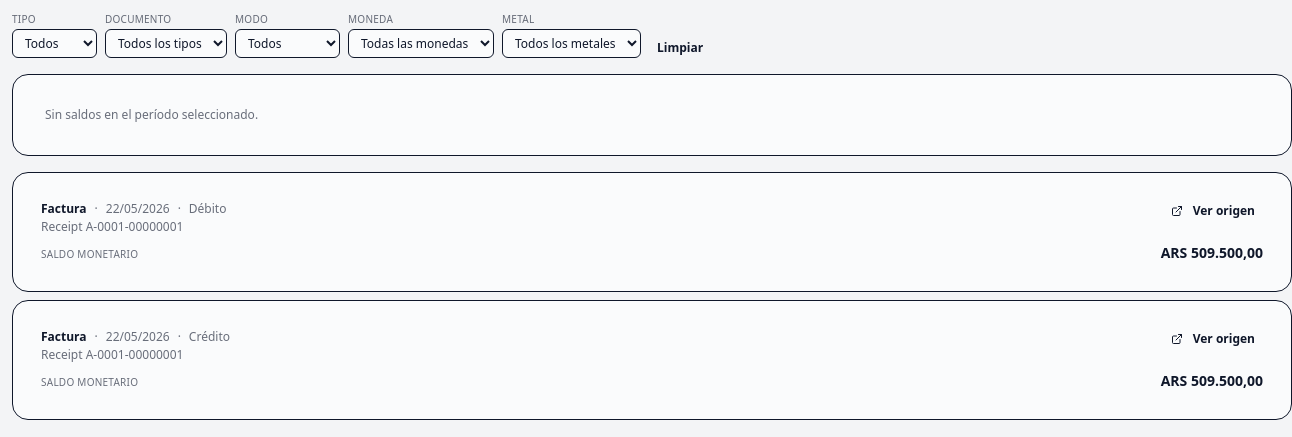
Test case: EntityBalanceMovementsView — filtros (Fase 4.4) › botón 'Limpiar' resetea todos los filtros
Select "Créditos" in the dropdown with test id "filter-kind": coordinates (54, 44) top-left (12, 29), bottom-right (97, 58)
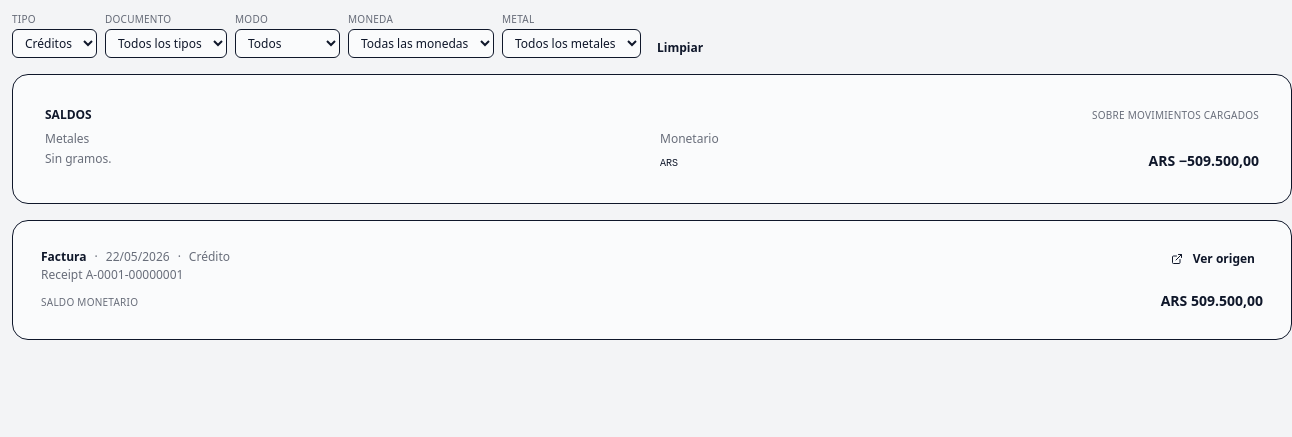
Now the element with test id "movement-card-u-d" is gone
Click the button with test id "filter-clear": coordinates (680, 48) top-left (649, 38), bottom-right (711, 58)
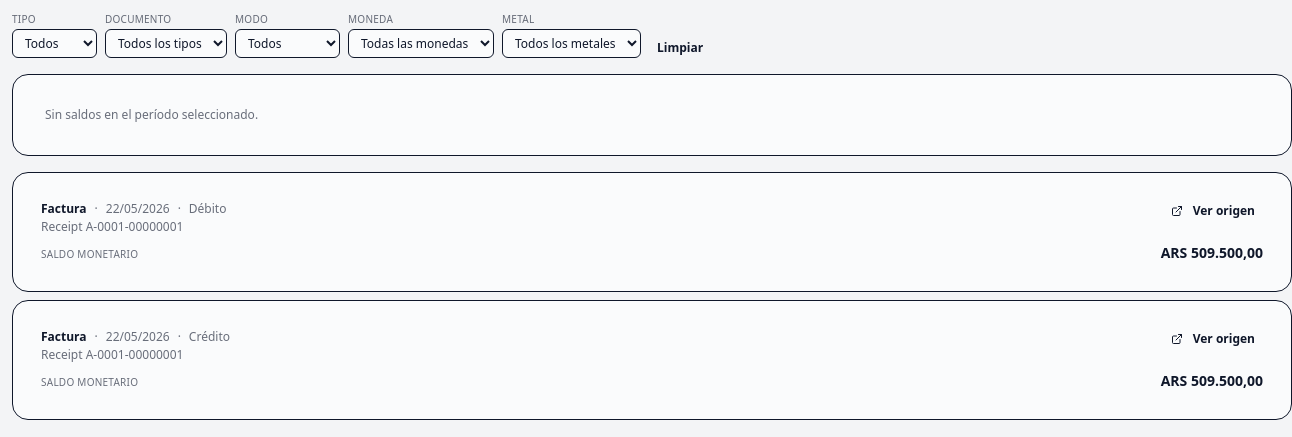
Expected: the element with test id "movement-card-u-c" is shown, top-left (12, 300), bottom-right (1291, 420)
Now the element with test id "movement-card-u-d" is shown, box top-left (12, 172), bottom-right (1291, 292)
